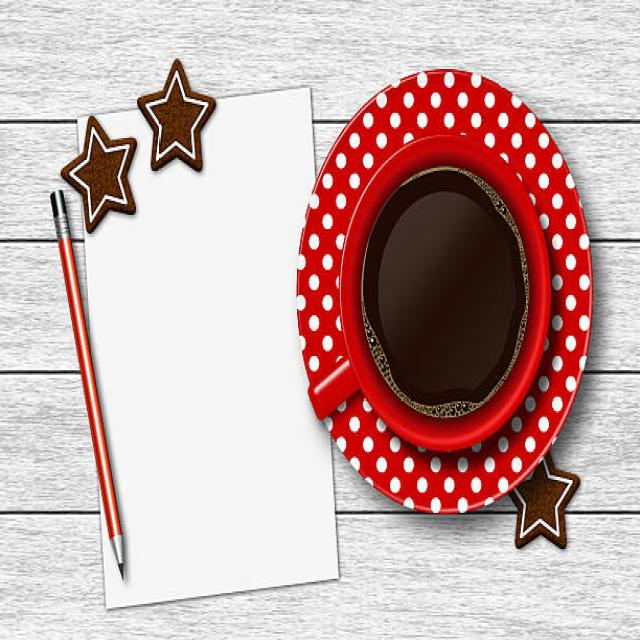Red_cup: (308, 135, 550, 450)
